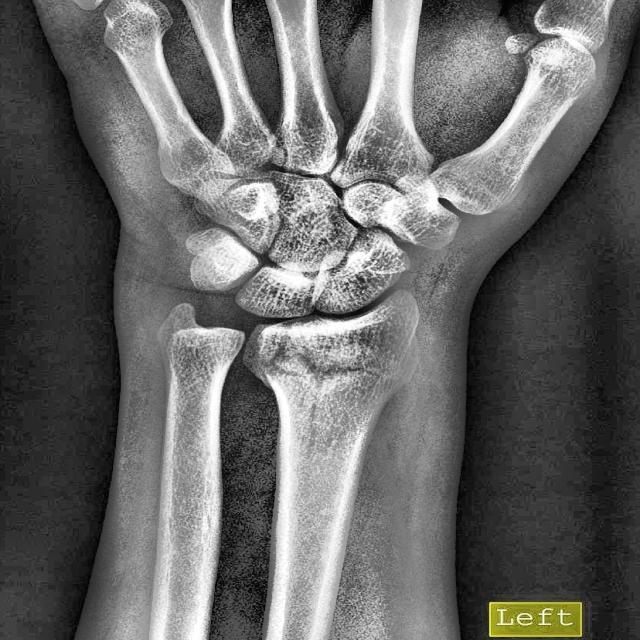fracture: (246, 348, 406, 394)
